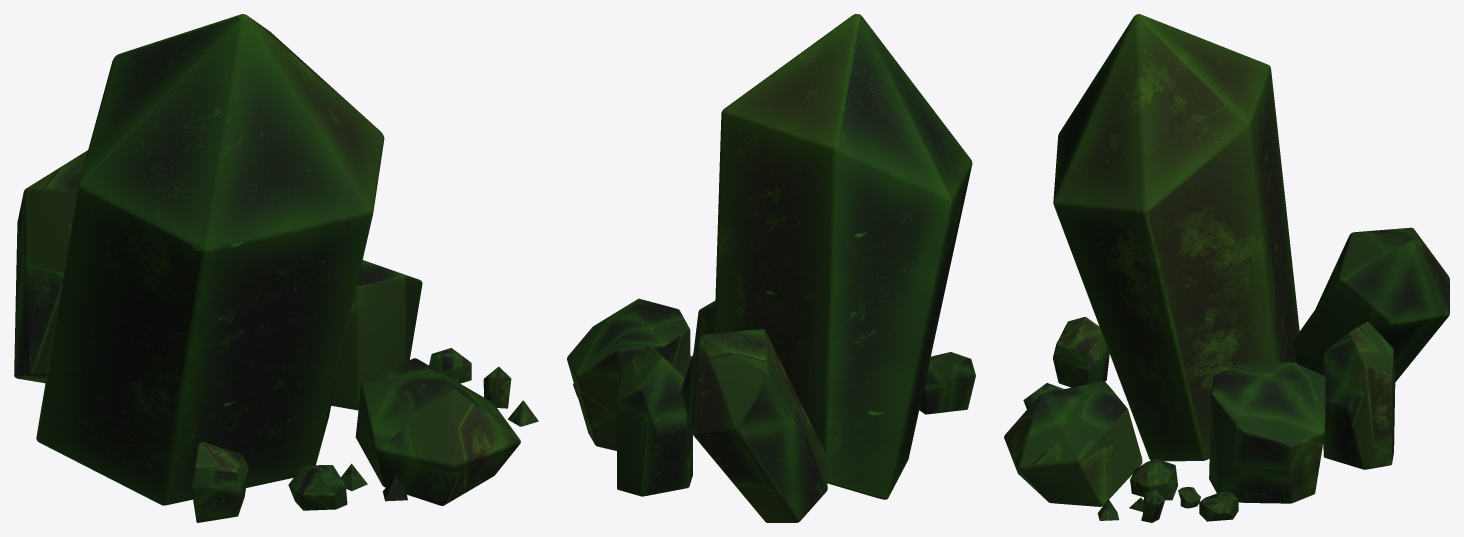
The model's file is CrystalSet.fbx.
3 renders of one model, left to right at view 1: azimuth 30°, elevation 25°; view 2: azimuth 150°, elevation 25°; view 3: azimuth 270°, elevation 25°, orthographic. The views are drawn at different scales.
Visible parts, largest first — view 1: Main_Crystal_Main_Crystal.001, Cylinder_3_Cylinder_3, Cylinder_1_Cylinder_1, Cylinder_2_Cylinder_2, Cube_Cube, Cylinder_4_Cylinder_4, Platonic_1_Platonic_1, Cylinder_6_Cylinder_6; view 2: Main_Crystal_Main_Crystal.001, Cylinder_1_Cylinder_1, Platonic_2_Platonic_2, Cylinder_2_Cylinder_2, Cube_Cube, Cylinder_3_Cylinder_3; view 3: Main_Crystal_Main_Crystal.001, Cylinder_2_Cylinder_2, Cylinder_1_Cylinder_1, Cylinder_3_Cylinder_3, Platonic_2_Platonic_2, Cube_Cube, Cylinder_5_Cylinder_5, Platonic_1_Platonic_1, Cylinder_6_Cylinder_6.
Boxes of the visible parts, left/top/right/bottom form: Main_Crystal_Main_Crystal.001: left=36, top=14, right=384, bottom=505; Cylinder_3_Cylinder_3: left=355, top=358, right=520, bottom=505; Cylinder_1_Cylinder_1: left=14, top=150, right=87, bottom=383; Cylinder_2_Cylinder_2: left=331, top=260, right=422, bottom=410; Cube_Cube: left=191, top=442, right=248, bottom=522; Cylinder_4_Cylinder_4: left=288, top=465, right=347, bottom=510; Platonic_1_Platonic_1: left=429, top=348, right=471, bottom=383; Cylinder_6_Cylinder_6: left=483, top=367, right=511, bottom=408; Main_Crystal_Main_Crystal.001: left=714, top=14, right=972, bottom=499; Cylinder_1_Cylinder_1: left=680, top=329, right=827, bottom=522; Platonic_2_Platonic_2: left=617, top=345, right=692, bottom=496; Cylinder_2_Cylinder_2: left=567, top=298, right=690, bottom=450; Cube_Cube: left=919, top=352, right=975, bottom=414; Cylinder_3_Cylinder_3: left=693, top=301, right=715, bottom=351; Main_Crystal_Main_Crystal.001: left=1053, top=14, right=1299, bottom=461; Cylinder_2_Cylinder_2: left=1209, top=361, right=1326, bottom=503; Cylinder_1_Cylinder_1: left=1293, top=227, right=1449, bottom=381; Cylinder_3_Cylinder_3: left=1004, top=381, right=1142, bottom=506; Platonic_2_Platonic_2: left=1323, top=321, right=1395, bottom=469; Cube_Cube: left=1053, top=317, right=1109, bottom=387; Cylinder_5_Cylinder_5: left=1130, top=459, right=1177, bottom=500; Platonic_1_Platonic_1: left=1199, top=491, right=1238, bottom=521; Cylinder_6_Cylinder_6: left=1141, top=489, right=1164, bottom=522.
Size of the model in its own units: 132 by 149 by 145.
